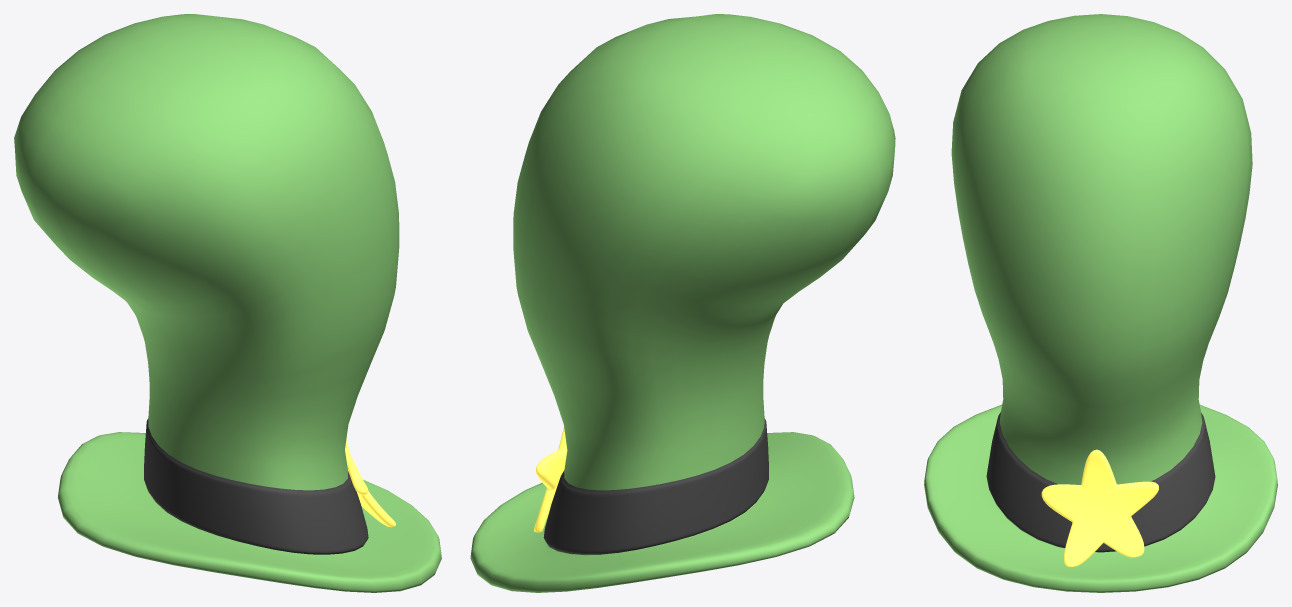
The model's file is MagicHat.fbx.
3 views of the same model, side by side, from view 1: azimuth 30°, elevation 25°; view 2: azimuth 150°, elevation 25°; view 3: azimuth 270°, elevation 25° (orthographic). The views are drawn at different scales.
Parts seen in each view (by area): view 1: Hat, Star; view 2: Hat, Star; view 3: Hat, Star.
Part boxes in pixels (<box>): Hat: <box>14,14,441,592</box>; Star: <box>345,439,395,527</box>; Hat: <box>470,14,895,592</box>; Star: <box>534,427,567,532</box>; Hat: <box>924,14,1277,592</box>; Star: <box>1041,449,1158,566</box>.
Size of the model in its own units: 347 by 461 by 319.
